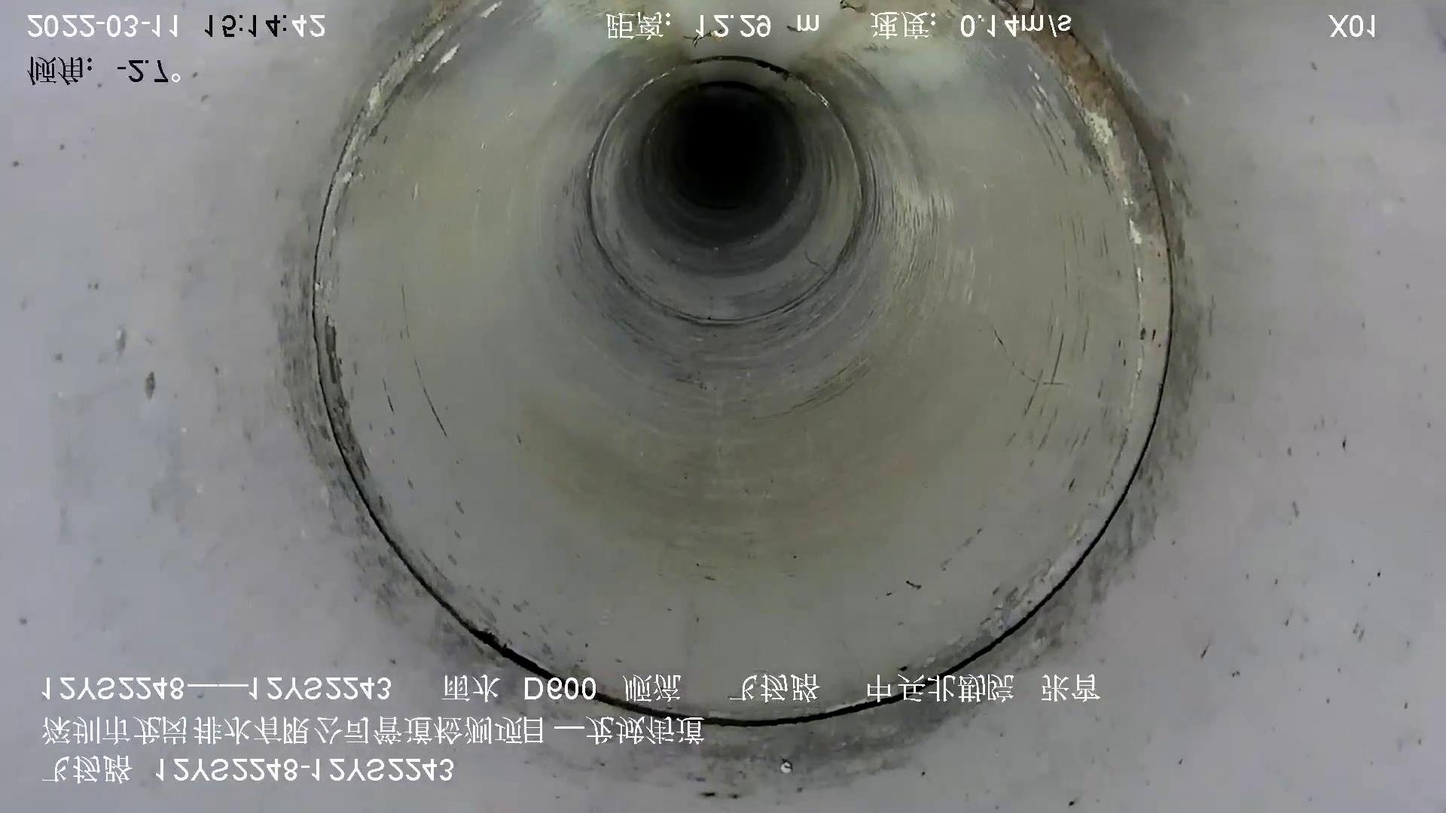CKTJ: (310, 1, 1174, 727)
